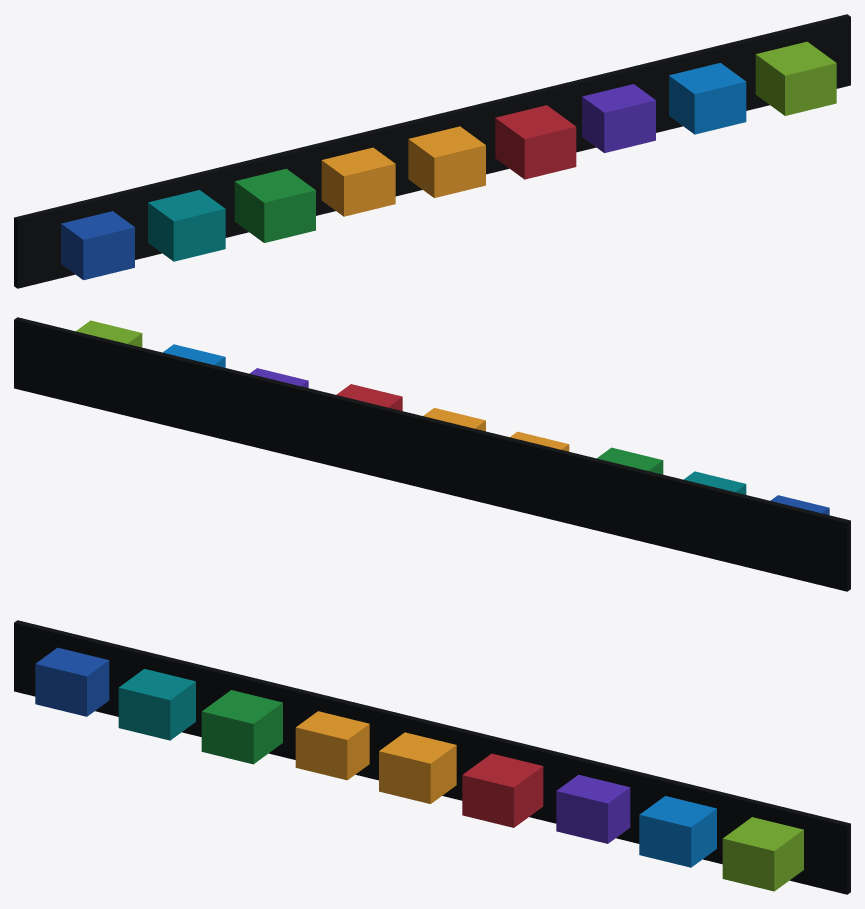
File: foundry_pipeline_preview.obj
3 renders of one model, top to bottom at view 1: azimuth 30°, elevation 25°; view 2: azimuth 150°, elevation 25°; view 3: azimuth 330°, elevation 25°, orthographic.
Visible parts, largest first — view 1: foundry_pipeline_preview; view 2: foundry_pipeline_preview; view 3: foundry_pipeline_preview.
Part boxes in pixels (left/top/right/bottom): foundry_pipeline_preview: left=14, top=14, right=850, bottom=288; foundry_pipeline_preview: left=14, top=317, right=850, bottom=591; foundry_pipeline_preview: left=14, top=620, right=850, bottom=894.
Bounding box in the file's own units: 21.6 × 1.7 × 1.48.
